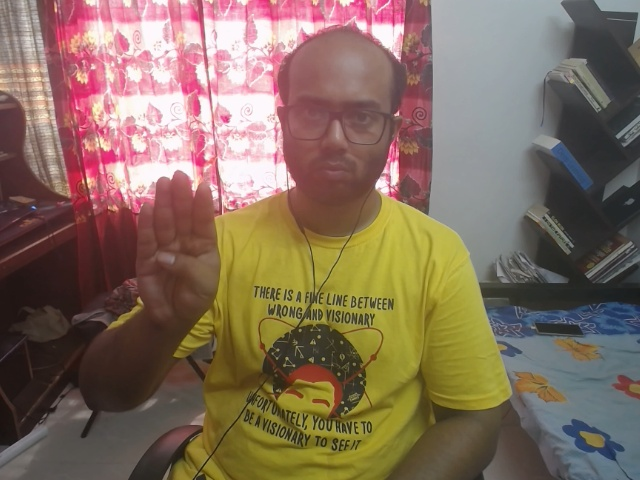counting: (113, 155, 244, 342)
